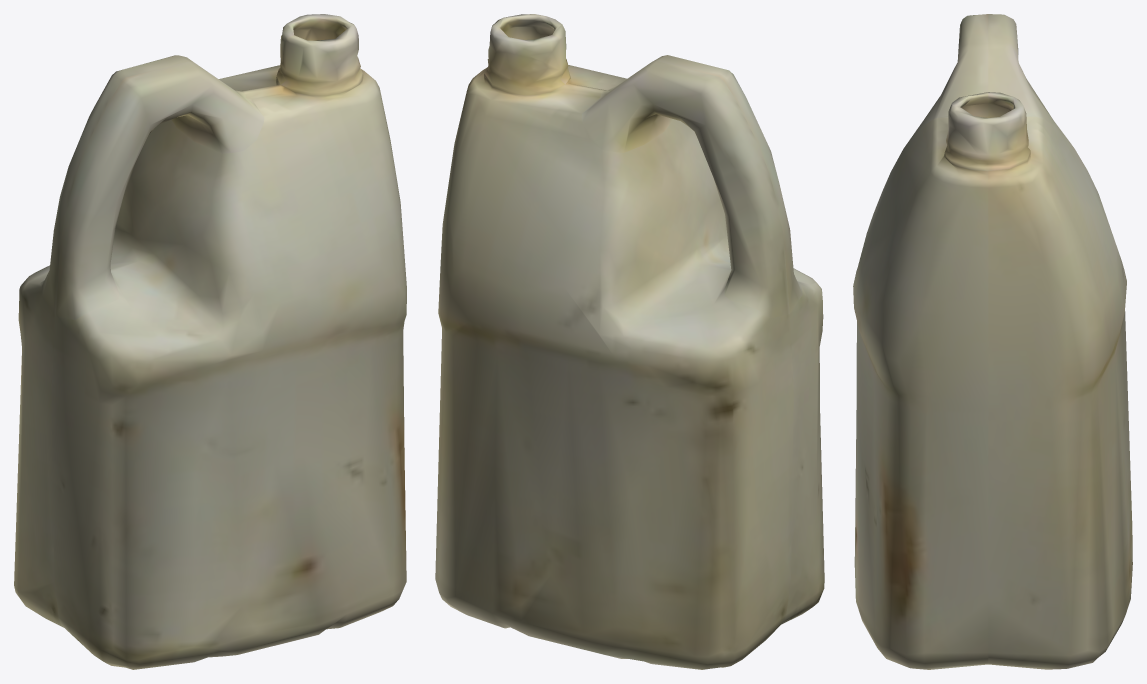
Rendered from plastic_bottle_gallon_lod1.glb.
3 renders of one model, left to right at view 1: azimuth 30°, elevation 25°; view 2: azimuth 150°, elevation 25°; view 3: azimuth 270°, elevation 25°, orthographic.
Visible parts, largest first — view 1: plastic_bottle_gallon; view 2: plastic_bottle_gallon; view 3: plastic_bottle_gallon.
Boxes of the visible parts, x1,y1,x2,y2 form: plastic_bottle_gallon: [14, 14, 406, 669]; plastic_bottle_gallon: [435, 14, 824, 669]; plastic_bottle_gallon: [853, 14, 1132, 669].
Size of the model in its own units: 0.1662 by 0.2745 by 0.1258.
1 material, 1 textured.
